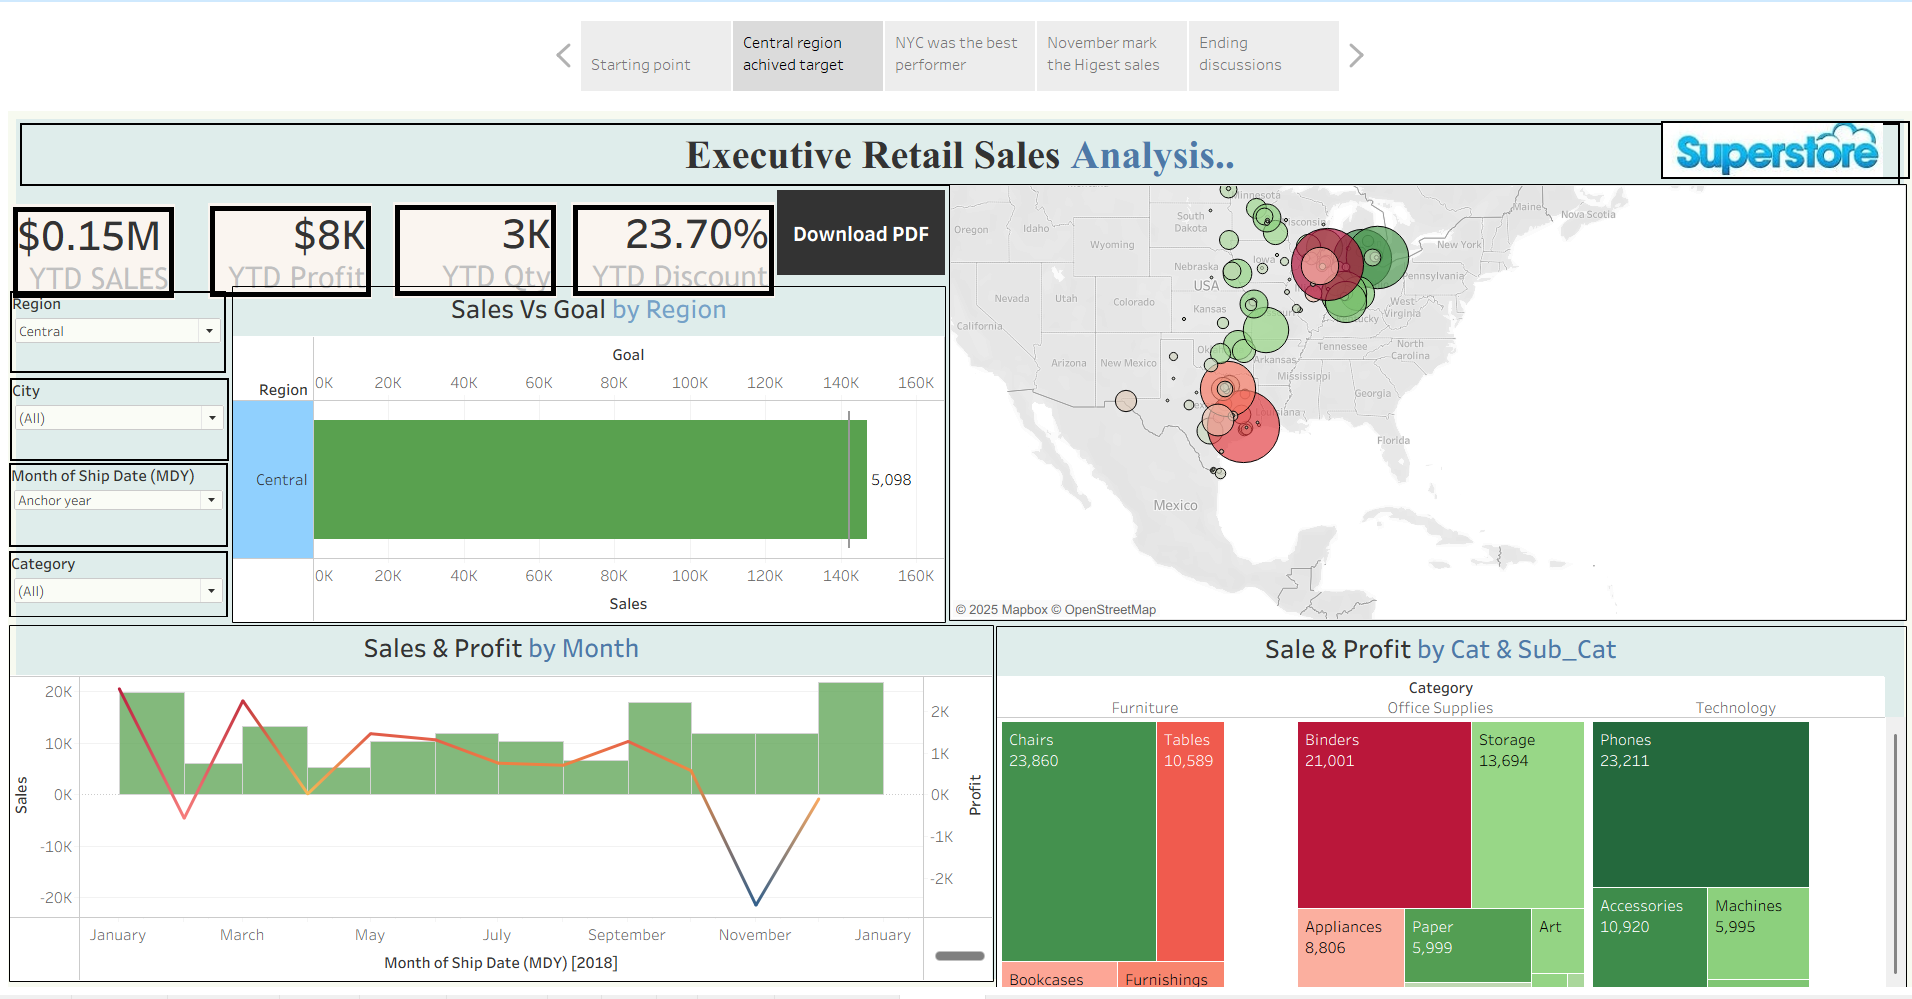

Layout of this report page (visuals, bound fields, positions):
{"tool":"tableau","page":{"name":"Dashboard 1","canvas":[1000,1000],"units":"permille","ordinal":0},"visuals":[{"type":"worksheet","title":"Qty","mark":"Automatic","box":[202.1,7.5,120.1,339.6]},{"type":"worksheet","title":"discount","mark":"Automatic","box":[295.8,7.5,118.9,283.4]},{"type":"worksheet","title":"Profit","mark":"Automatic","box":[104.9,8.7,121.3,226]},{"type":"worksheet","title":"Sales","mark":"Automatic","box":[1.8,10,107.8,229.7]},{"type":"title","box":[4.7,10,990.6,88.6]},{"type":"image","param":"Image/download.jpeg","box":[868.2,11.2,130.6,66.2]},{"type":"worksheet","title":"City wise","mark":"Automatic","box":[494.4,83.7,503.2,499.4]},{"type":"dashboard-object","box":[404.1,89.9,88.5,97.4]},{"type":"worksheet","title":"Sales Vs Goal","mark":"Automatic","rows":["Region"],"cols":["Sales","Goal"],"box":[117.8,199.8,374.9,384.5]},{"type":"filter","title":"Sales Vs Goal","param":"[federated.1a60av20npun2j1cgu62n0ei90px].[none:Region:nk]","box":[1.2,206,113.7,93.6]},{"type":"filter","title":"City wise","param":"[federated.1a60av20npun2j1cgu62n0ei90px].[none:City:nk]","box":[1.2,304.6,114.8,94.9]},{"type":"filter","title":"Time_series","param":"[federated.1a60av20npun2j1cgu62n0ei90px].[tmn:Ship Date (MDY):qk]","box":[0.6,402,114.8,96.1]},{"type":"filter","title":"Tree_map","param":"[federated.1a60av20npun2j1cgu62n0ei90px].[none:Category:nk]","box":[0.6,501.9,114.8,76.2]},{"type":"worksheet","title":"Time_series","mark":"Automatic","rows":["Sales","Profit"],"cols":["Ship Date (MDY)"],"box":[0.6,586.8,517.3,407]}]}

Visuals, with their boxes on the dashboard's canvas, which has no fixed pixel size, in thousandths of its width and height (x1, y1, x2, y2). These are canvas units, not pixel positions in the 1912x999 screenshot, which may show the page scaled, cropped or inside an application window:
"Qty" worksheet: pyautogui.locateOnScreen(202, 8, 322, 347)
"discount" worksheet: pyautogui.locateOnScreen(296, 8, 415, 291)
"Profit" worksheet: pyautogui.locateOnScreen(105, 9, 226, 235)
"Sales" worksheet: pyautogui.locateOnScreen(2, 10, 110, 240)
title: pyautogui.locateOnScreen(5, 10, 995, 99)
image: pyautogui.locateOnScreen(868, 11, 999, 77)
"City wise" worksheet: pyautogui.locateOnScreen(494, 84, 998, 583)
dashboard-object: pyautogui.locateOnScreen(404, 90, 493, 187)
"Sales Vs Goal" worksheet: pyautogui.locateOnScreen(118, 200, 493, 584)
"Sales Vs Goal" filter: pyautogui.locateOnScreen(1, 206, 115, 300)
"City wise" filter: pyautogui.locateOnScreen(1, 305, 116, 400)
"Time_series" filter: pyautogui.locateOnScreen(1, 402, 115, 498)
"Tree_map" filter: pyautogui.locateOnScreen(1, 502, 115, 578)
"Time_series" worksheet: pyautogui.locateOnScreen(1, 587, 518, 994)
